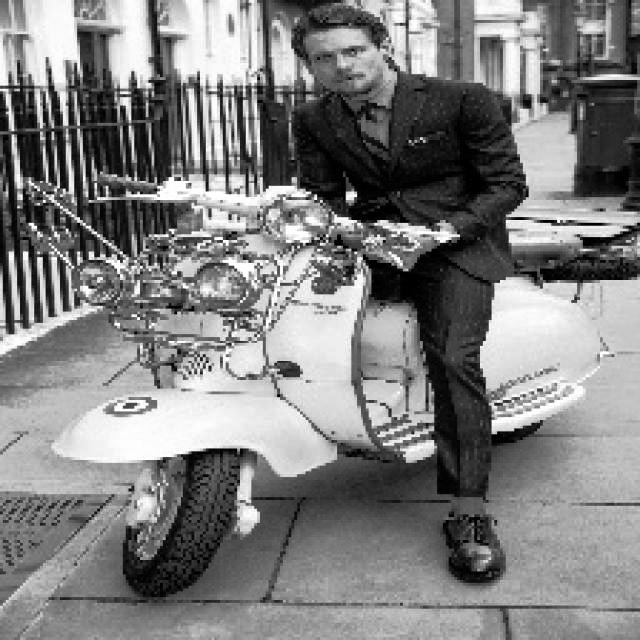Bike: (66, 173, 609, 581)
